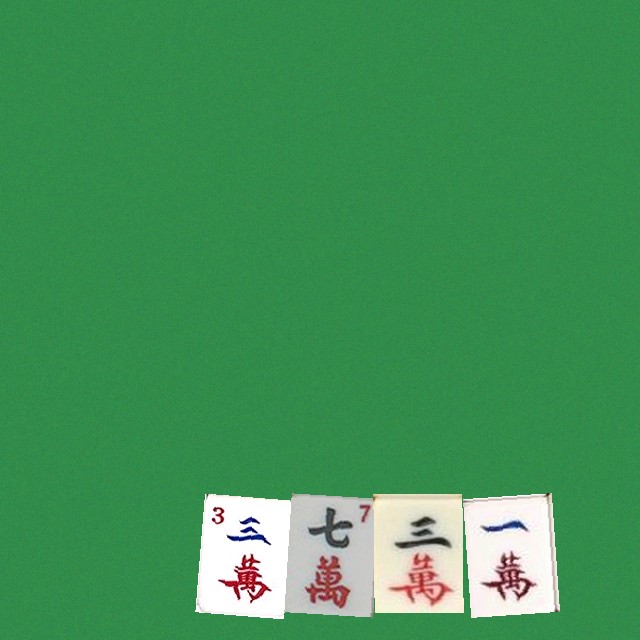tile: (195, 493, 284, 612), (284, 493, 373, 612), (373, 493, 462, 612), (462, 493, 551, 612)
